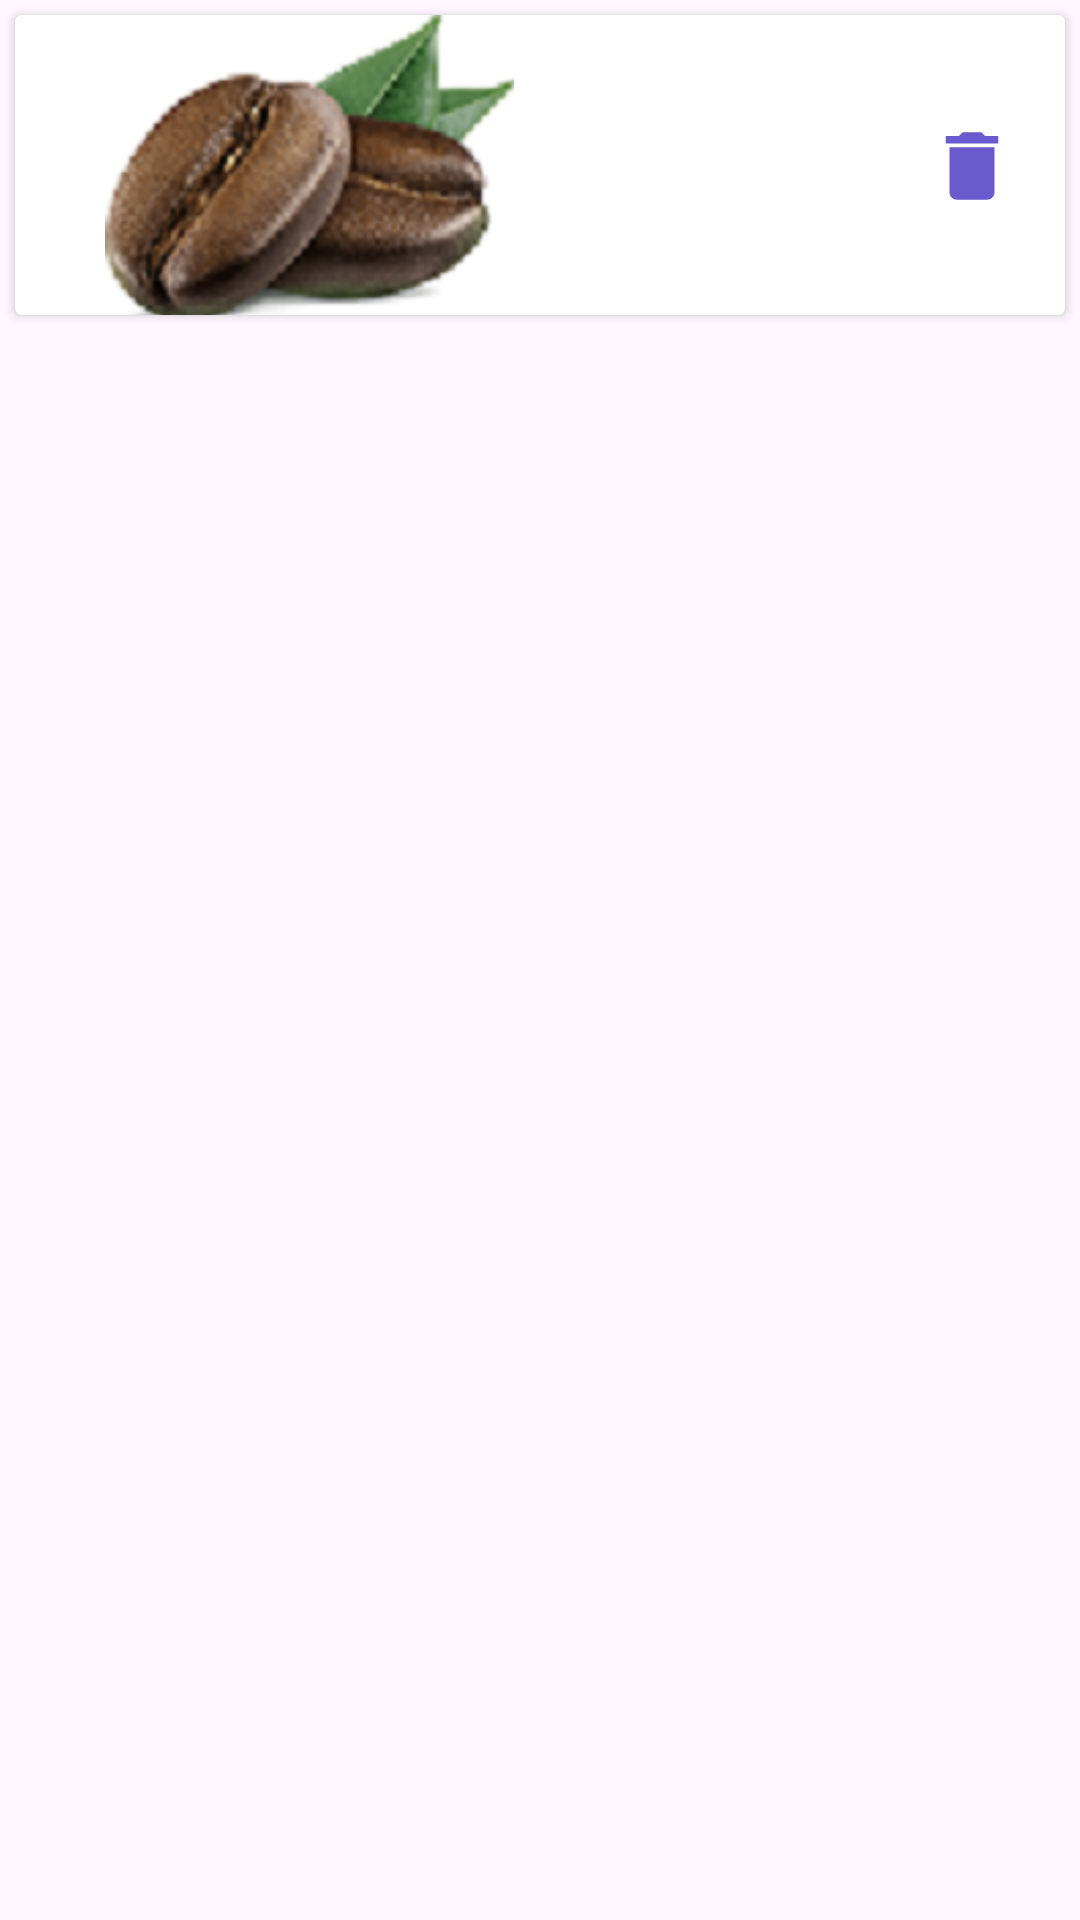

Screen size 1080*1920. Icon name, then its box in pixels as [x1=x1, y1=y1, x2=x2, y2=y2]:
sil yemek: [x1=945, y1=132, x2=999, y2=200]
